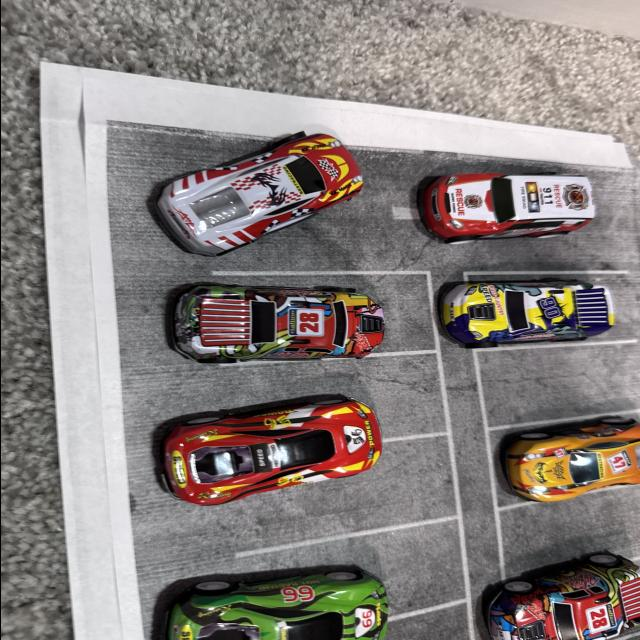car: (97, 108, 356, 303), (171, 538, 452, 640), (171, 272, 373, 396), (172, 380, 380, 480), (496, 376, 640, 516), (432, 259, 618, 358), (433, 157, 609, 250), (464, 550, 622, 632)
